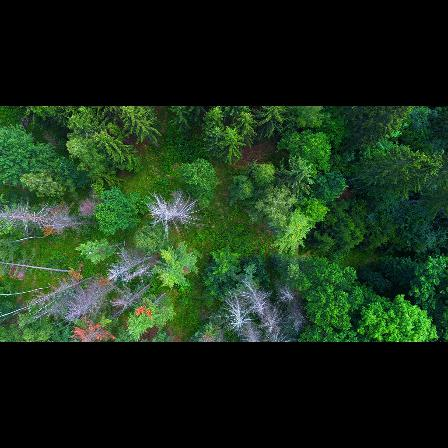Dead: (15, 276, 94, 310), (144, 190, 205, 231), (103, 250, 155, 277), (67, 287, 112, 318), (107, 283, 150, 314), (1, 209, 56, 224), (48, 217, 96, 233), (226, 301, 246, 331), (246, 286, 267, 314), (261, 308, 281, 331), (122, 266, 153, 280), (241, 322, 263, 341), (264, 324, 287, 342), (275, 287, 293, 305)
